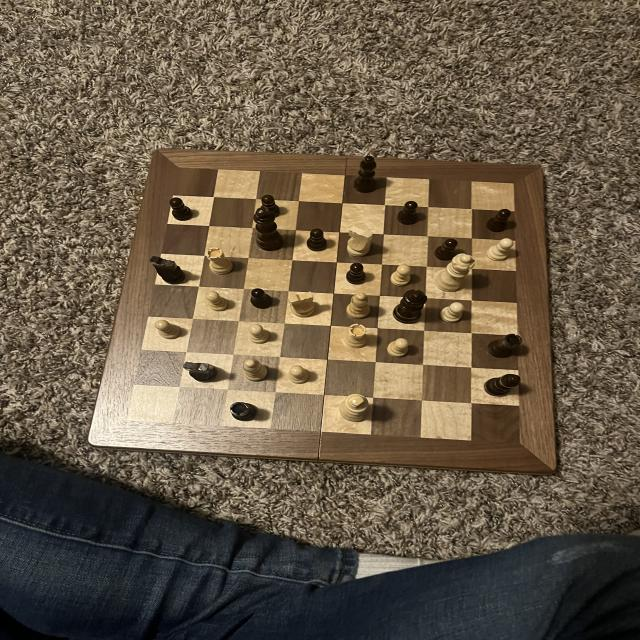bishop: (349, 154, 384, 195), (479, 371, 523, 399)
black-bishop: (250, 206, 289, 256)
black-king: (148, 254, 188, 287), (180, 360, 222, 385)
black-knight: (484, 207, 514, 234), (430, 236, 461, 262), (396, 199, 424, 227), (168, 195, 197, 222), (303, 227, 332, 254), (257, 193, 285, 219), (248, 286, 275, 312), (343, 262, 370, 286)
black-pawn: (389, 288, 431, 326)
black-queen: (486, 332, 524, 361), (228, 400, 262, 423)
black-rook: (238, 356, 271, 383), (342, 292, 373, 320)
white-bishop: (336, 393, 376, 424)
white-king: (343, 226, 378, 260), (288, 290, 322, 319)
white-knight: (484, 235, 518, 261), (436, 300, 468, 326), (153, 318, 186, 342), (387, 261, 414, 289), (246, 322, 274, 348), (204, 289, 232, 315), (384, 334, 412, 359), (284, 363, 314, 386)
white-pawn: (434, 252, 481, 292)
white-queen: (201, 244, 235, 276), (342, 322, 370, 352)
